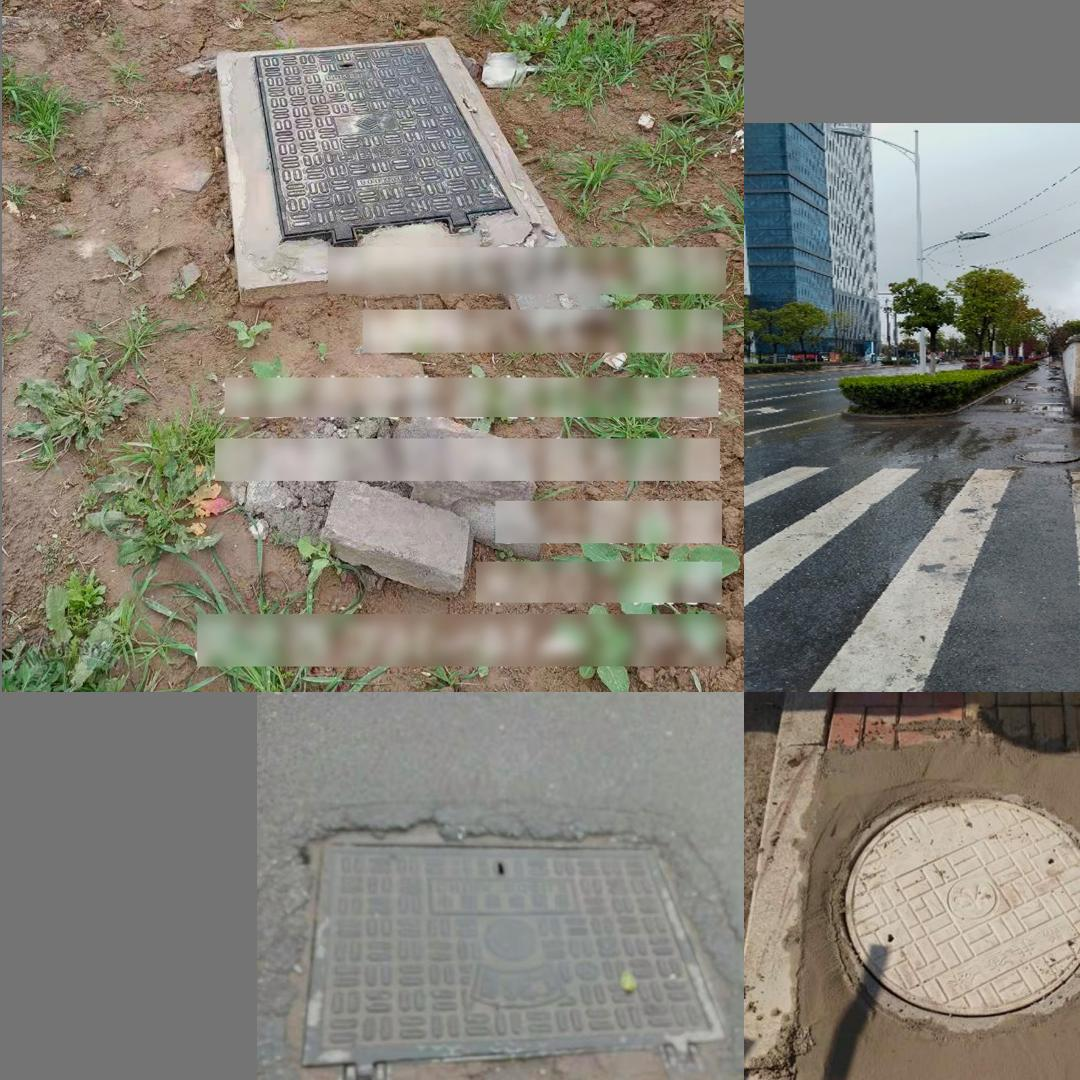good: (300, 836, 726, 1080), (801, 757, 1080, 1080), (244, 33, 519, 261), (995, 440, 1080, 469)
